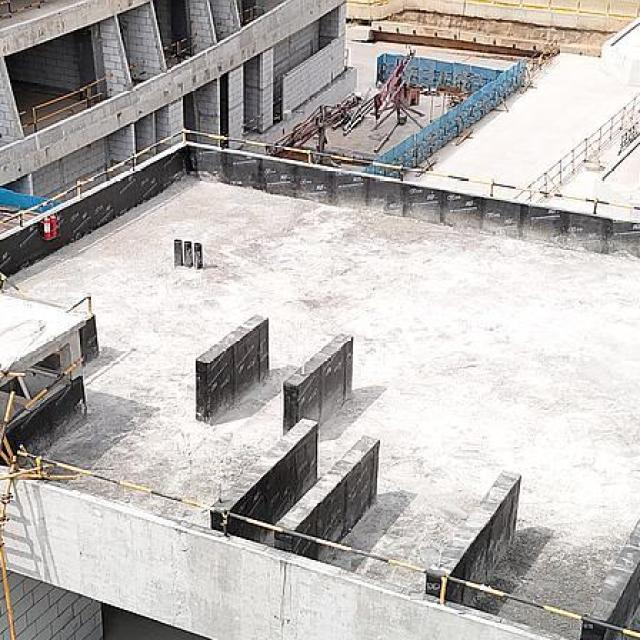edge_guardrail: (15, 448, 640, 640), (0, 128, 640, 226), (18, 75, 113, 134), (8, 355, 85, 425), (163, 34, 197, 64), (0, 0, 39, 20), (242, 115, 264, 136), (0, 272, 20, 294), (238, 5, 258, 26)
